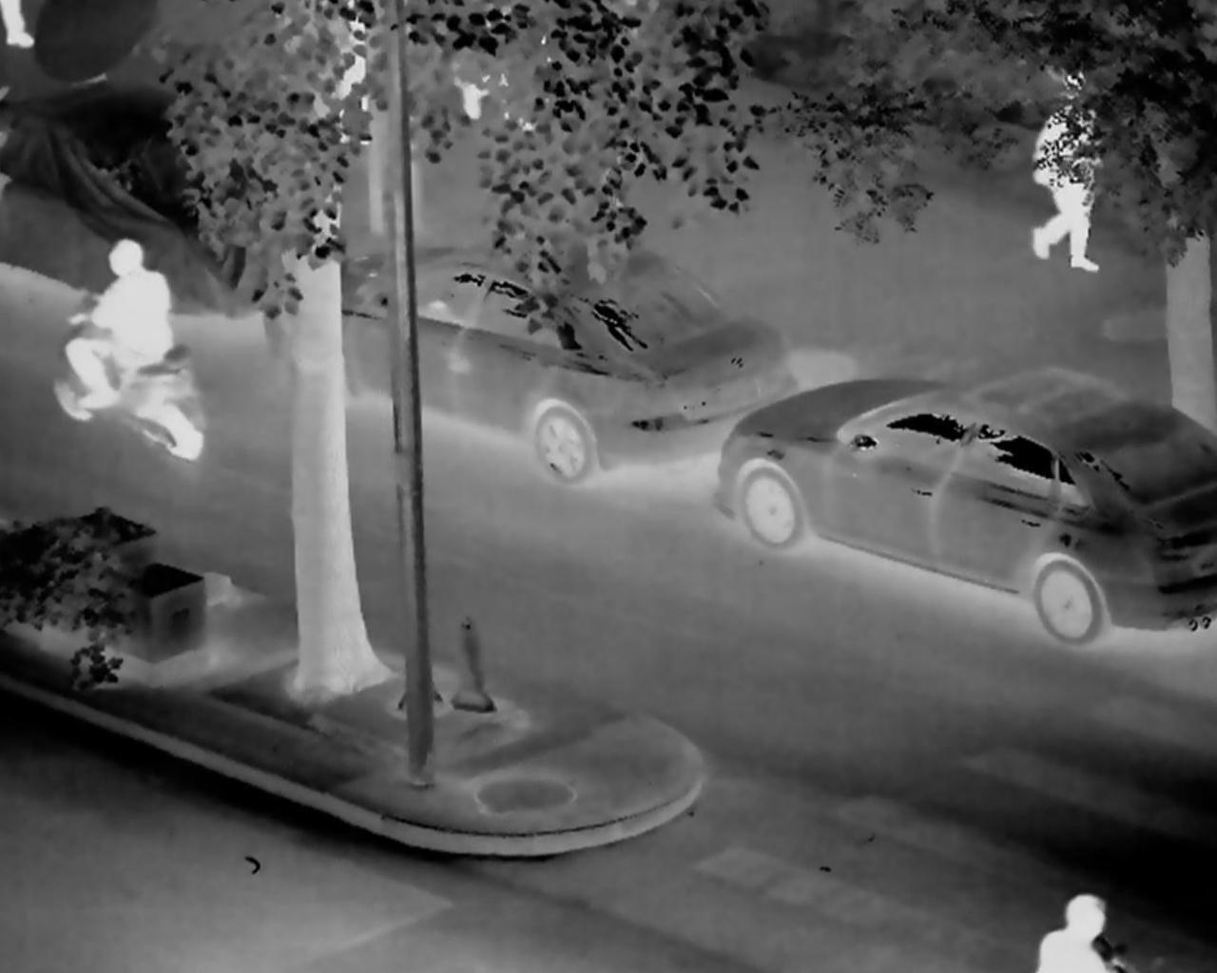person: (67, 237, 188, 437), (1008, 61, 1117, 281), (1021, 888, 1126, 973)
